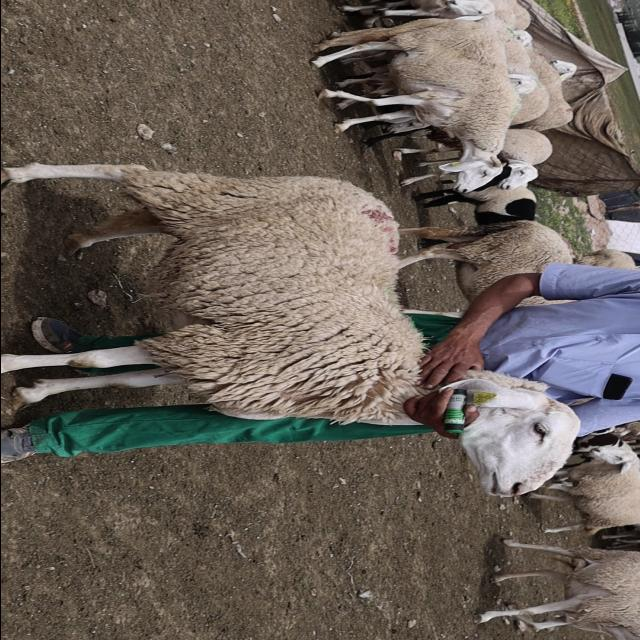Score_3: (1, 163, 579, 497)
